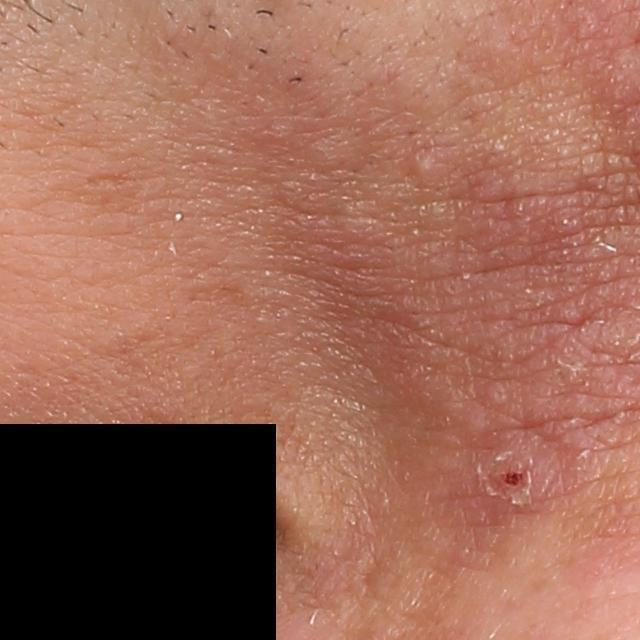comedo: (409, 147, 438, 185)
papule: (488, 436, 554, 512)
